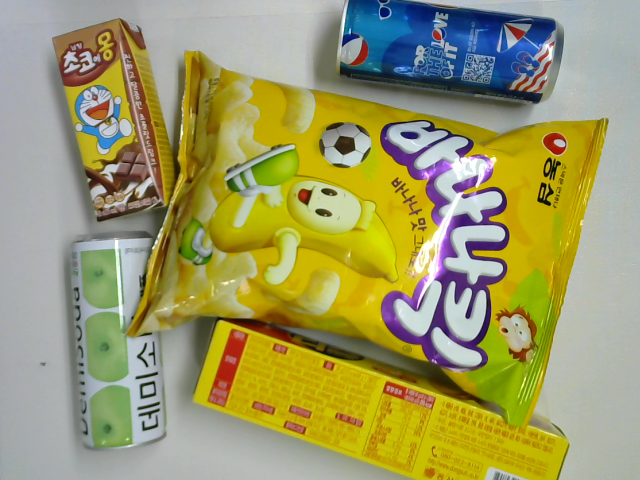Banana_Kick: (120, 48, 611, 434)
Choco_E_Mong: (50, 17, 176, 223)
Demisoda_Apple_Can_250ml: (69, 230, 170, 454)
Pepsi_Cola_Can_250ml: (334, 1, 566, 107)
Ritz_Remon_96g: (190, 319, 573, 480)
